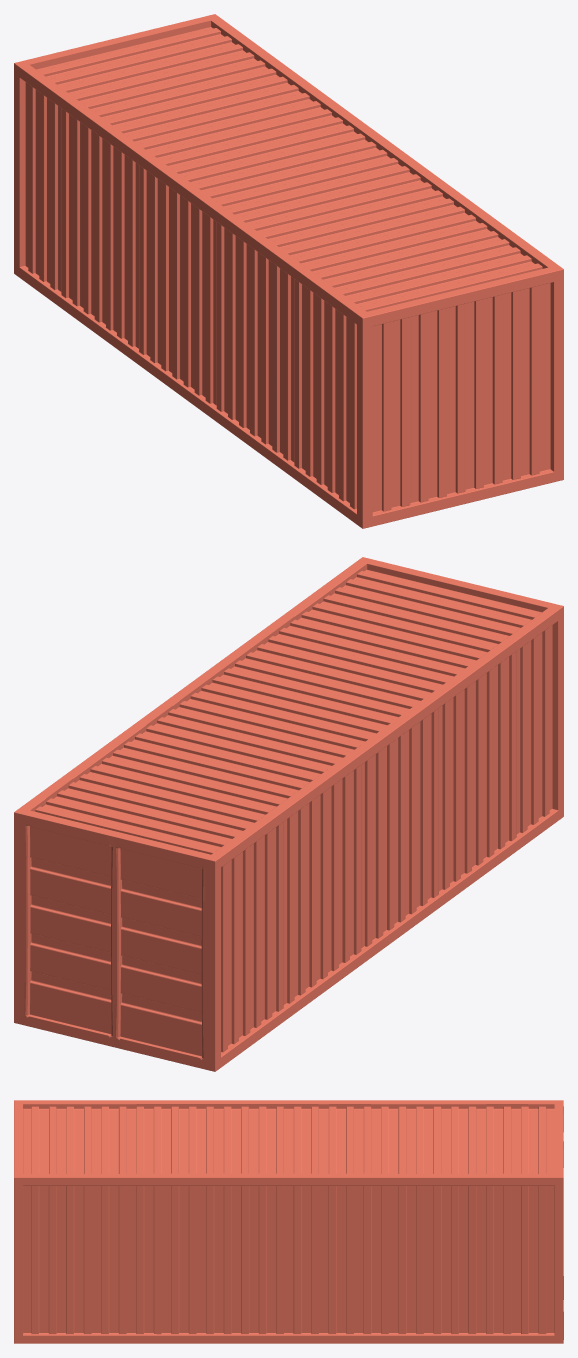
The model's file is container.fbx.
The picture shows the model from 3 angles, top to bottom: view 1: azimuth 30°, elevation 25°; view 2: azimuth 150°, elevation 25°; view 3: azimuth 270°, elevation 25°; orthographic projection. The views are drawn at different scales.
Visible parts, largest first — view 1: Cube; view 2: Cube; view 3: Cube.
Part boxes in pixels (x1,y1,x2,y2): Cube: [14, 14, 563, 528]; Cube: [14, 557, 563, 1071]; Cube: [14, 1100, 563, 1343].
Bounding box in the file's own units: 200 × 200 × 600.
